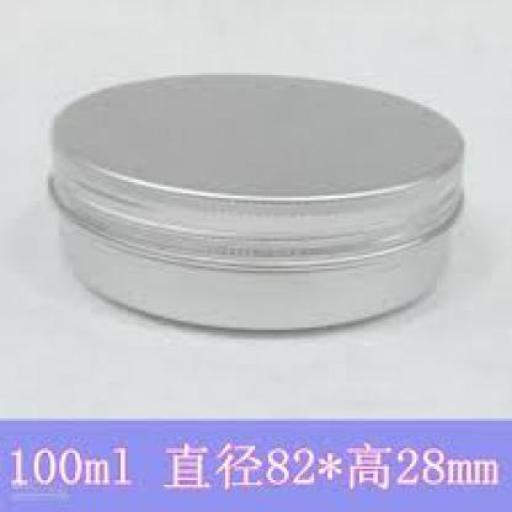metal: (45, 70, 462, 330)
